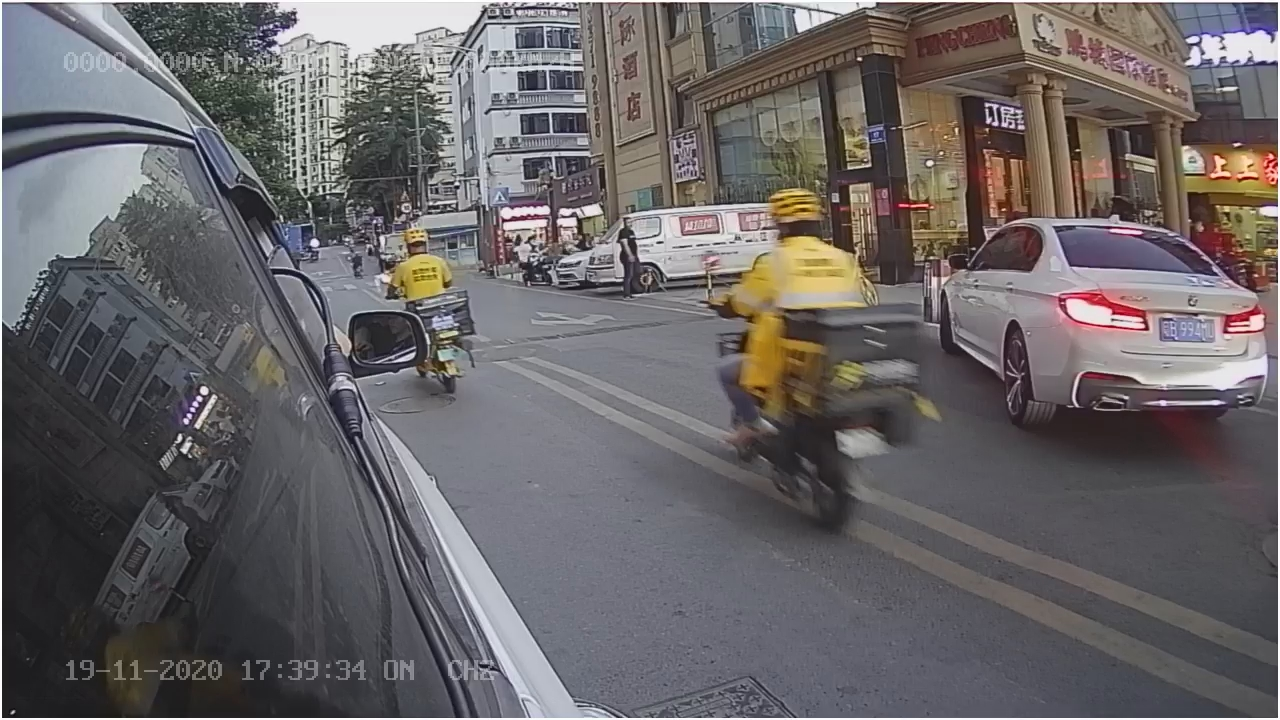person: (732, 190, 865, 335)
